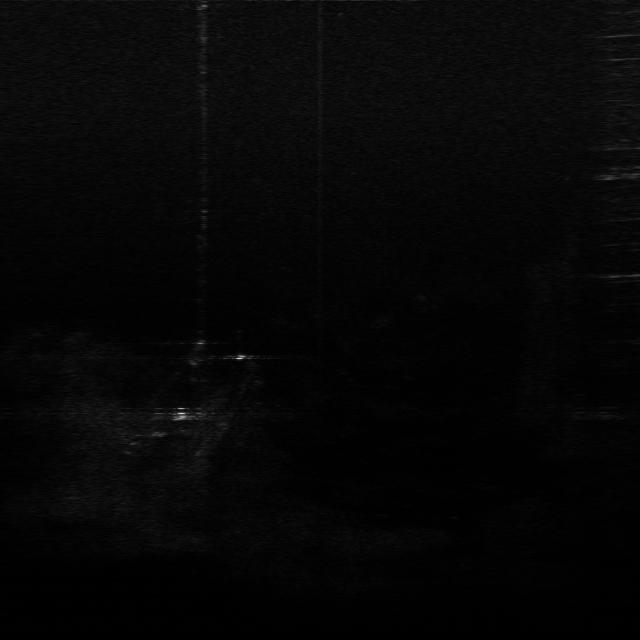rov: (169, 404, 192, 425)
